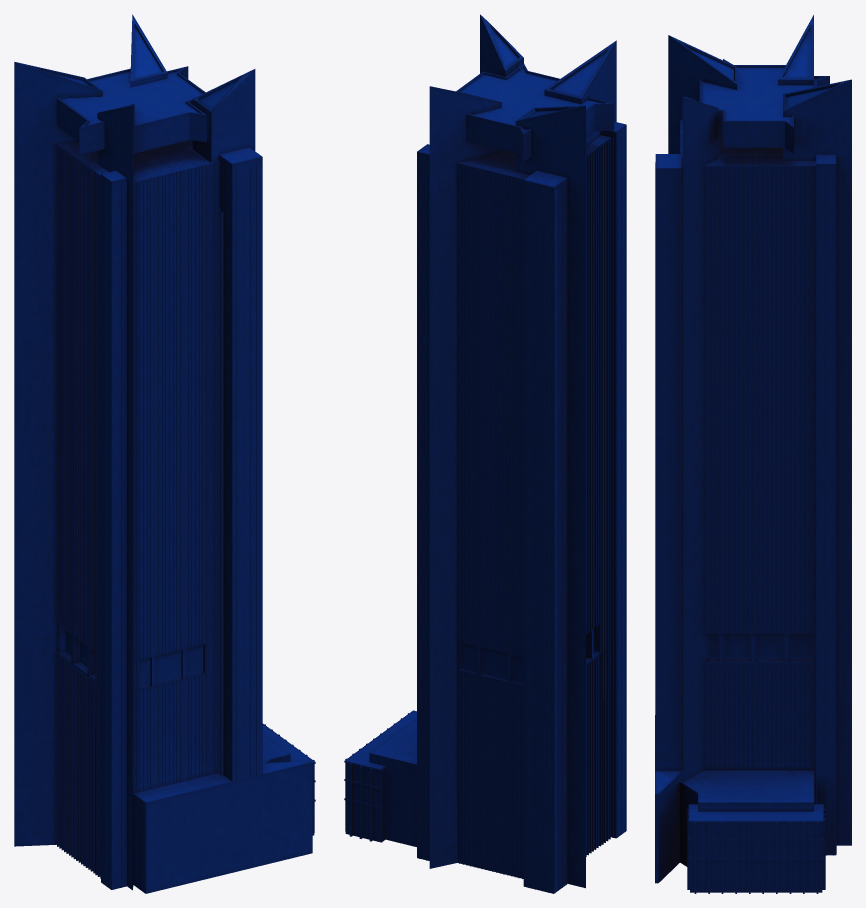
File: 1515_bway_on_03.glb
The picture shows the model from 3 angles, left to right: view 1: azimuth 30°, elevation 25°; view 2: azimuth 150°, elevation 25°; view 3: azimuth 270°, elevation 25°; orthographic projection. The views are drawn at different scales.
Visible parts, largest first — view 1: Empty_Mesh; view 2: Empty_Mesh; view 3: Empty_Mesh.
Part boxes in pixels (x1,y1,x2,y2): Empty_Mesh: (14, 14, 315, 893); Empty_Mesh: (344, 14, 626, 893); Empty_Mesh: (655, 15, 851, 893).
Bounding box in the file's own units: 20.59 × 64.58 × 15.03.
1 material, 1 textured.
